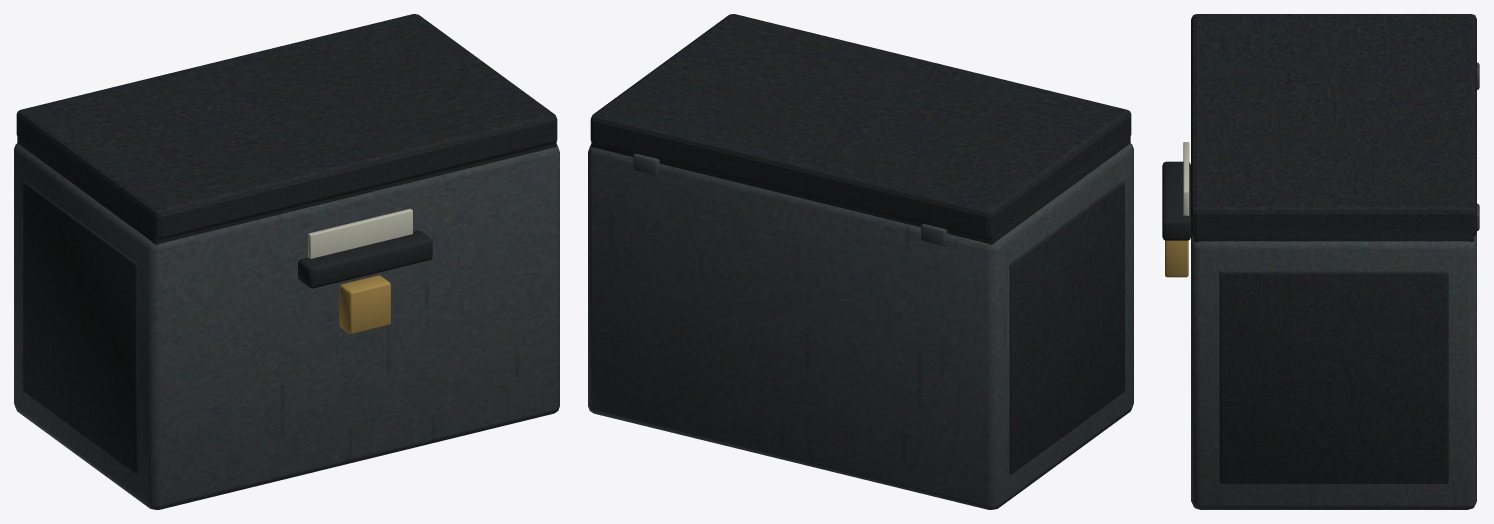
File: prop_toolbox.glb
3 views of the same model, side by side, from view 1: azimuth 30°, elevation 25°; view 2: azimuth 150°, elevation 25°; view 3: azimuth 270°, elevation 25° (orthographic).
Visible parts, largest first — view 1: PropMesh, Lid; view 2: PropMesh, Lid; view 3: PropMesh, Lid.
Part boxes in pixels (x1=…): PropMesh: x1=14, y1=136, x2=559, y2=509; Lid: x1=16, y1=14, x2=557, y2=239; PropMesh: x1=588, y1=132, x2=1133, y2=509; Lid: x1=590, y1=14, x2=1131, y2=239; PropMesh: x1=1162, y1=62, x2=1479, y2=509; Lid: x1=1191, y1=14, x2=1476, y2=236.
Bounding box in the file's own units: 1.01 × 0.7 × 0.665.
Materials: 4 (2 with a texture image).
